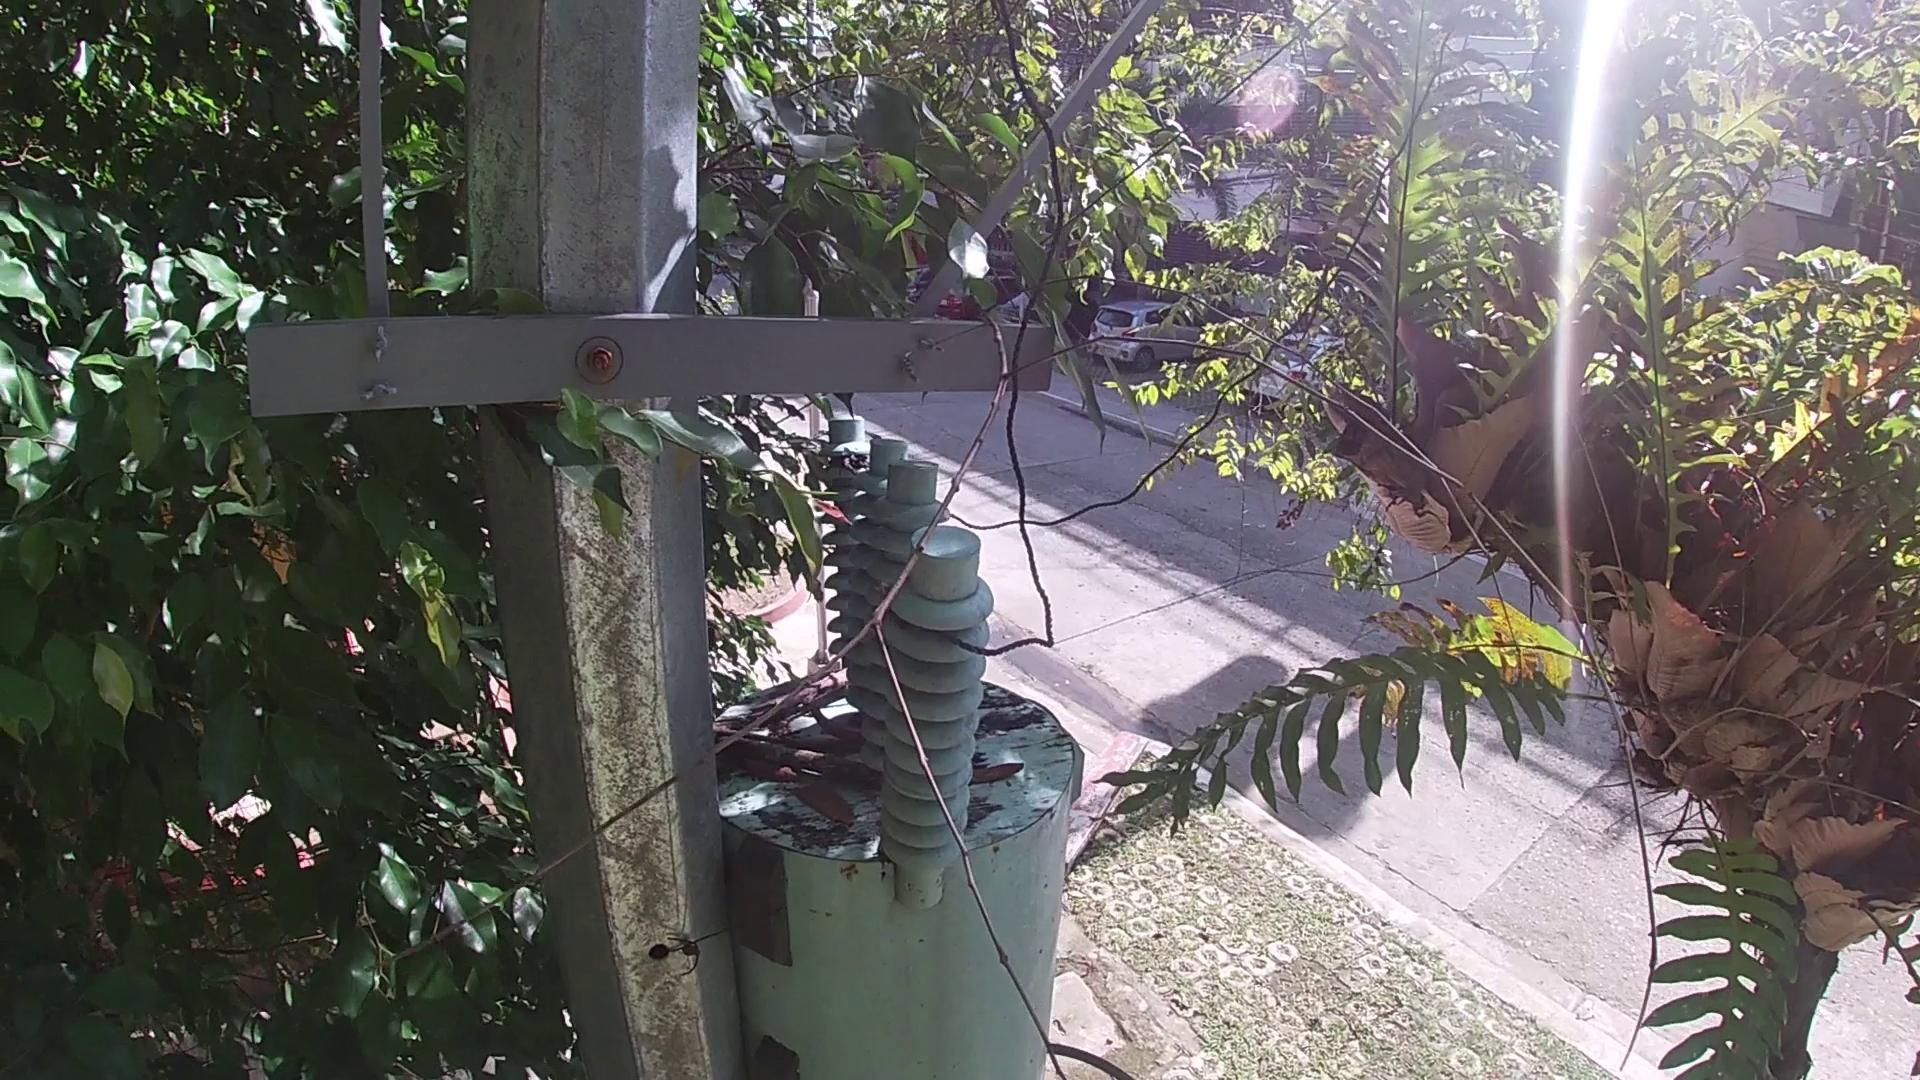leaf: (783, 779, 857, 828), (968, 761, 1029, 789), (737, 758, 800, 785)
tree branch: (361, 265, 1677, 1077), (712, 731, 876, 791), (752, 669, 851, 731)
